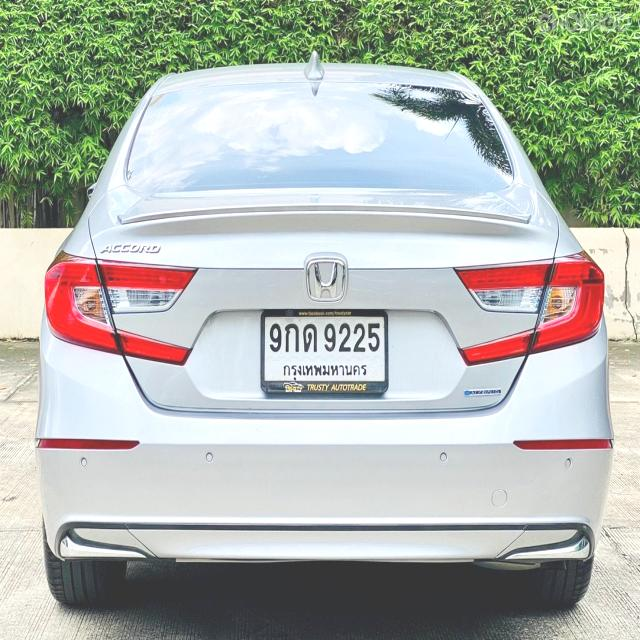license_plate: (255, 302, 396, 404)
